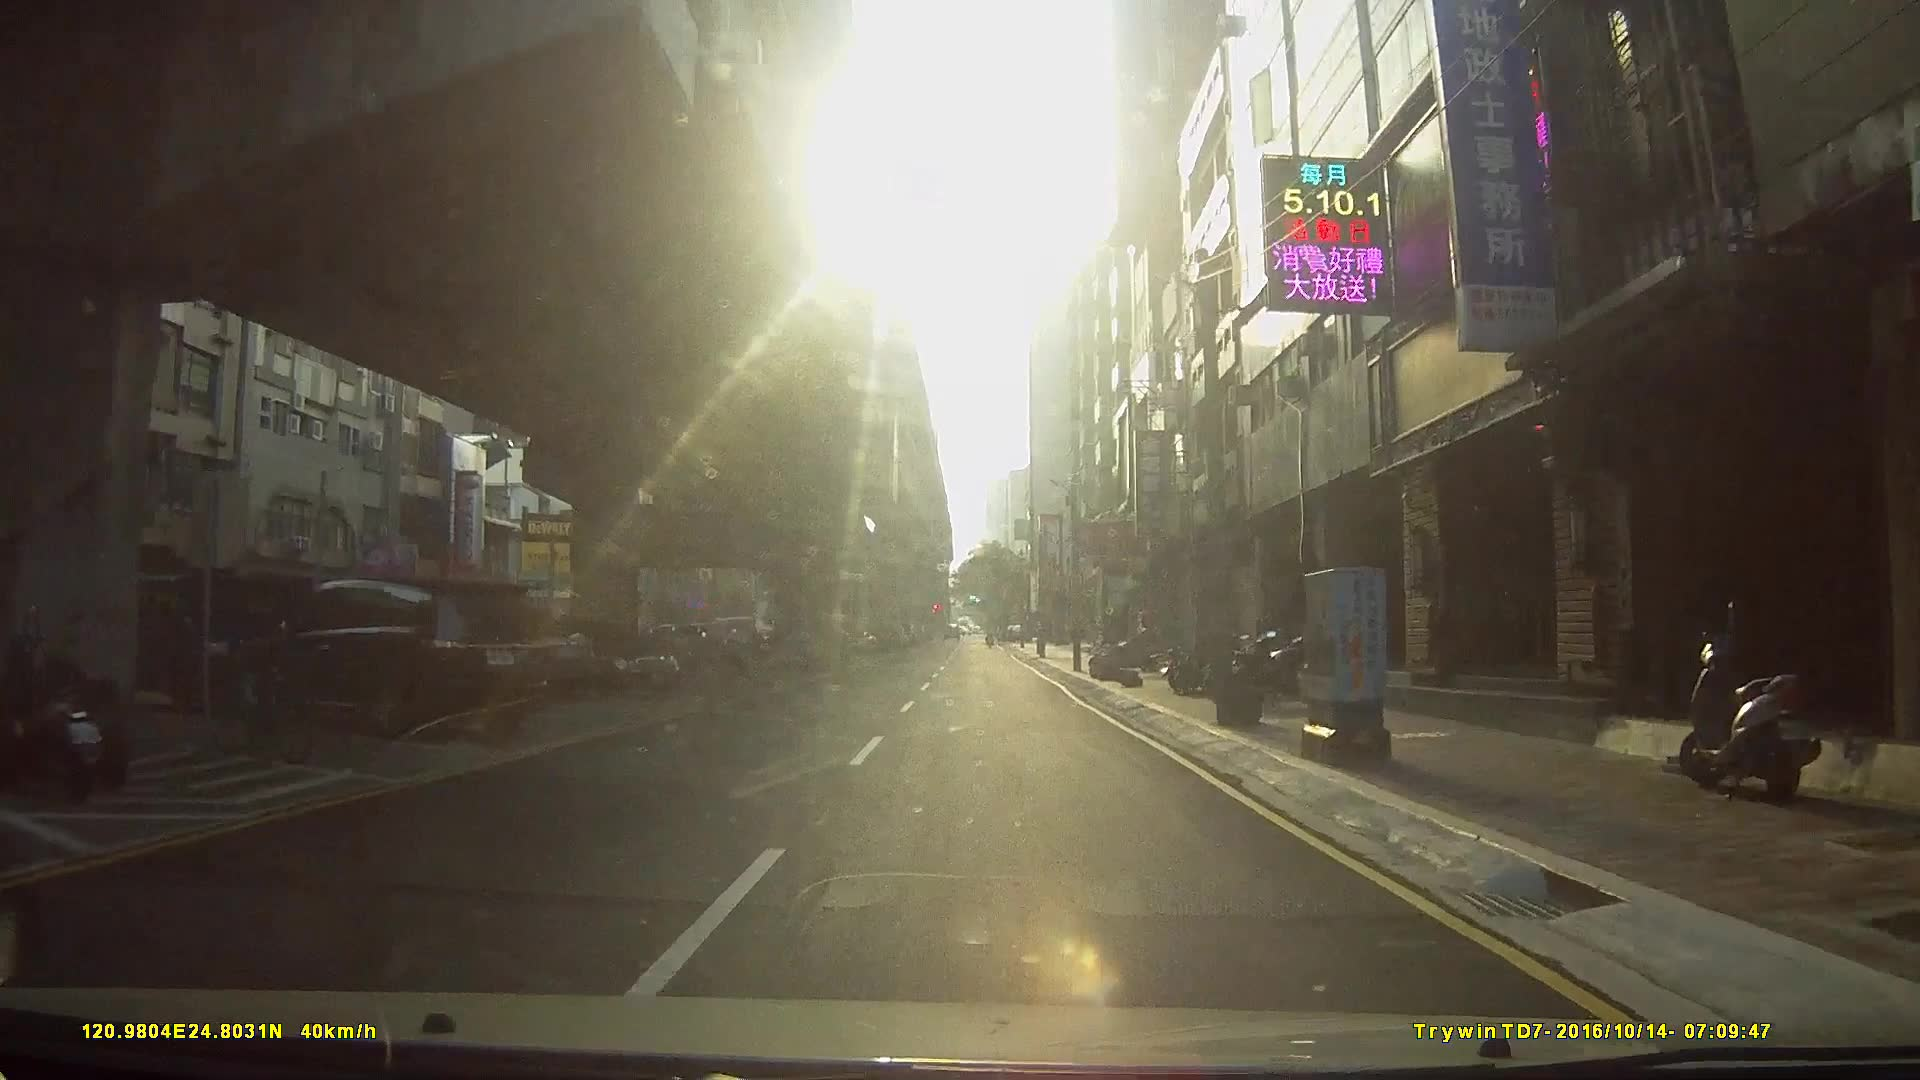vehicle: (220, 574, 542, 737), (84, 570, 293, 709), (553, 620, 680, 695)
